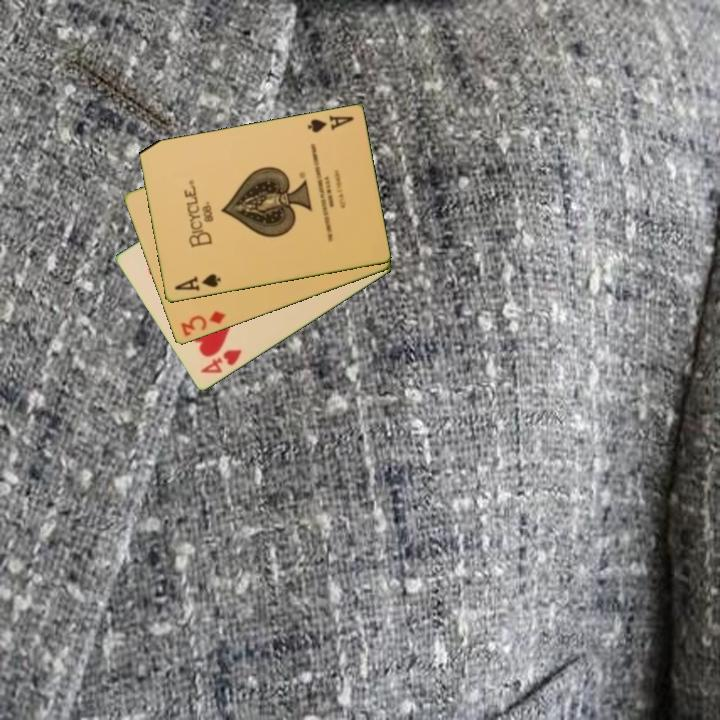3d: (177, 308, 228, 339)
4h: (197, 346, 245, 377)
As: (171, 270, 223, 294), (304, 112, 356, 136)
